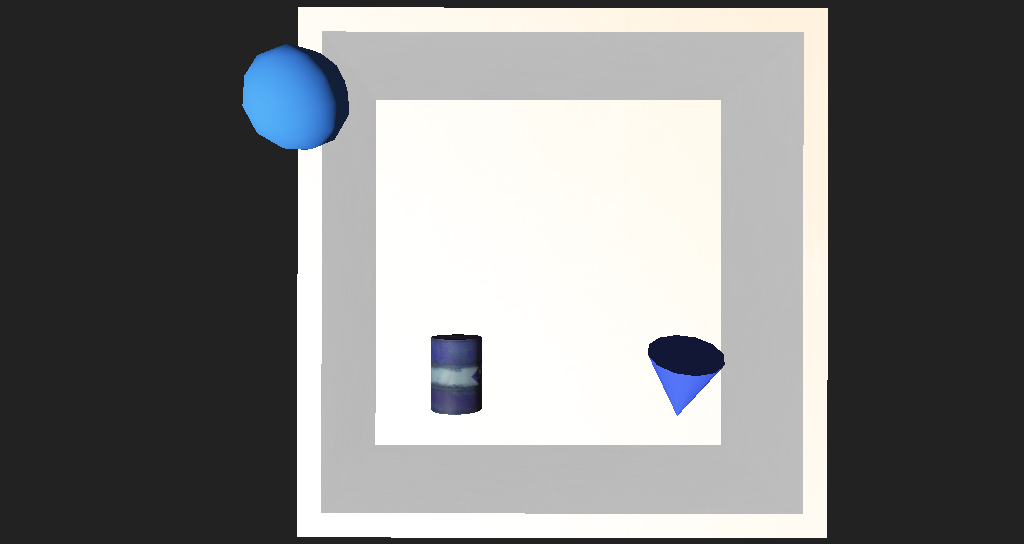cone: (397, 305, 451, 353)
cylinder: (589, 305, 664, 372)
sphere: (243, 136, 323, 198)
